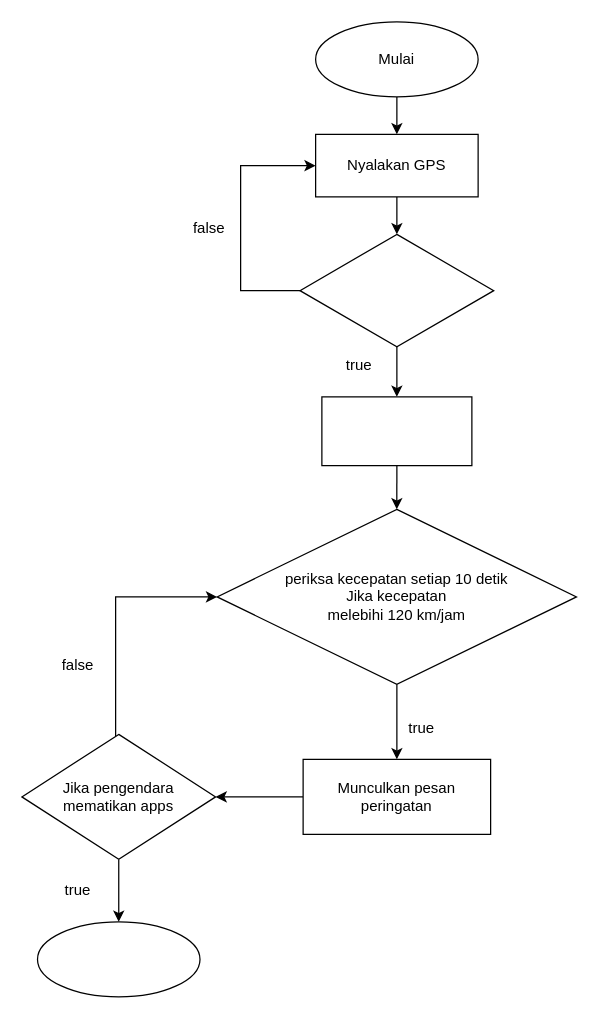
Some shapes in this 599 by 1019 pixel diagram are drawn without their labels. The centre of each missing label's shape, as x and y in pixels:
Dapatkan data kecepatan: pixel 396 431
Jika GPS aktif: pixel 396 290
Selesai: pixel 118 959
